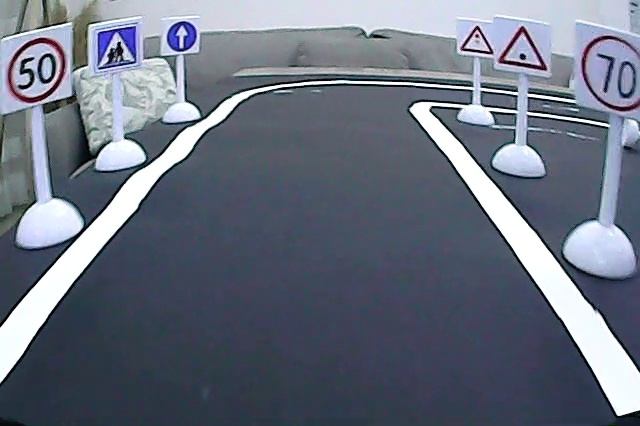green light: (496, 18, 551, 74)
red light: (457, 22, 496, 56)
school crossing: (91, 20, 141, 73)
speed limit 50: (3, 36, 72, 108)
speed limit 70: (577, 27, 640, 117)
